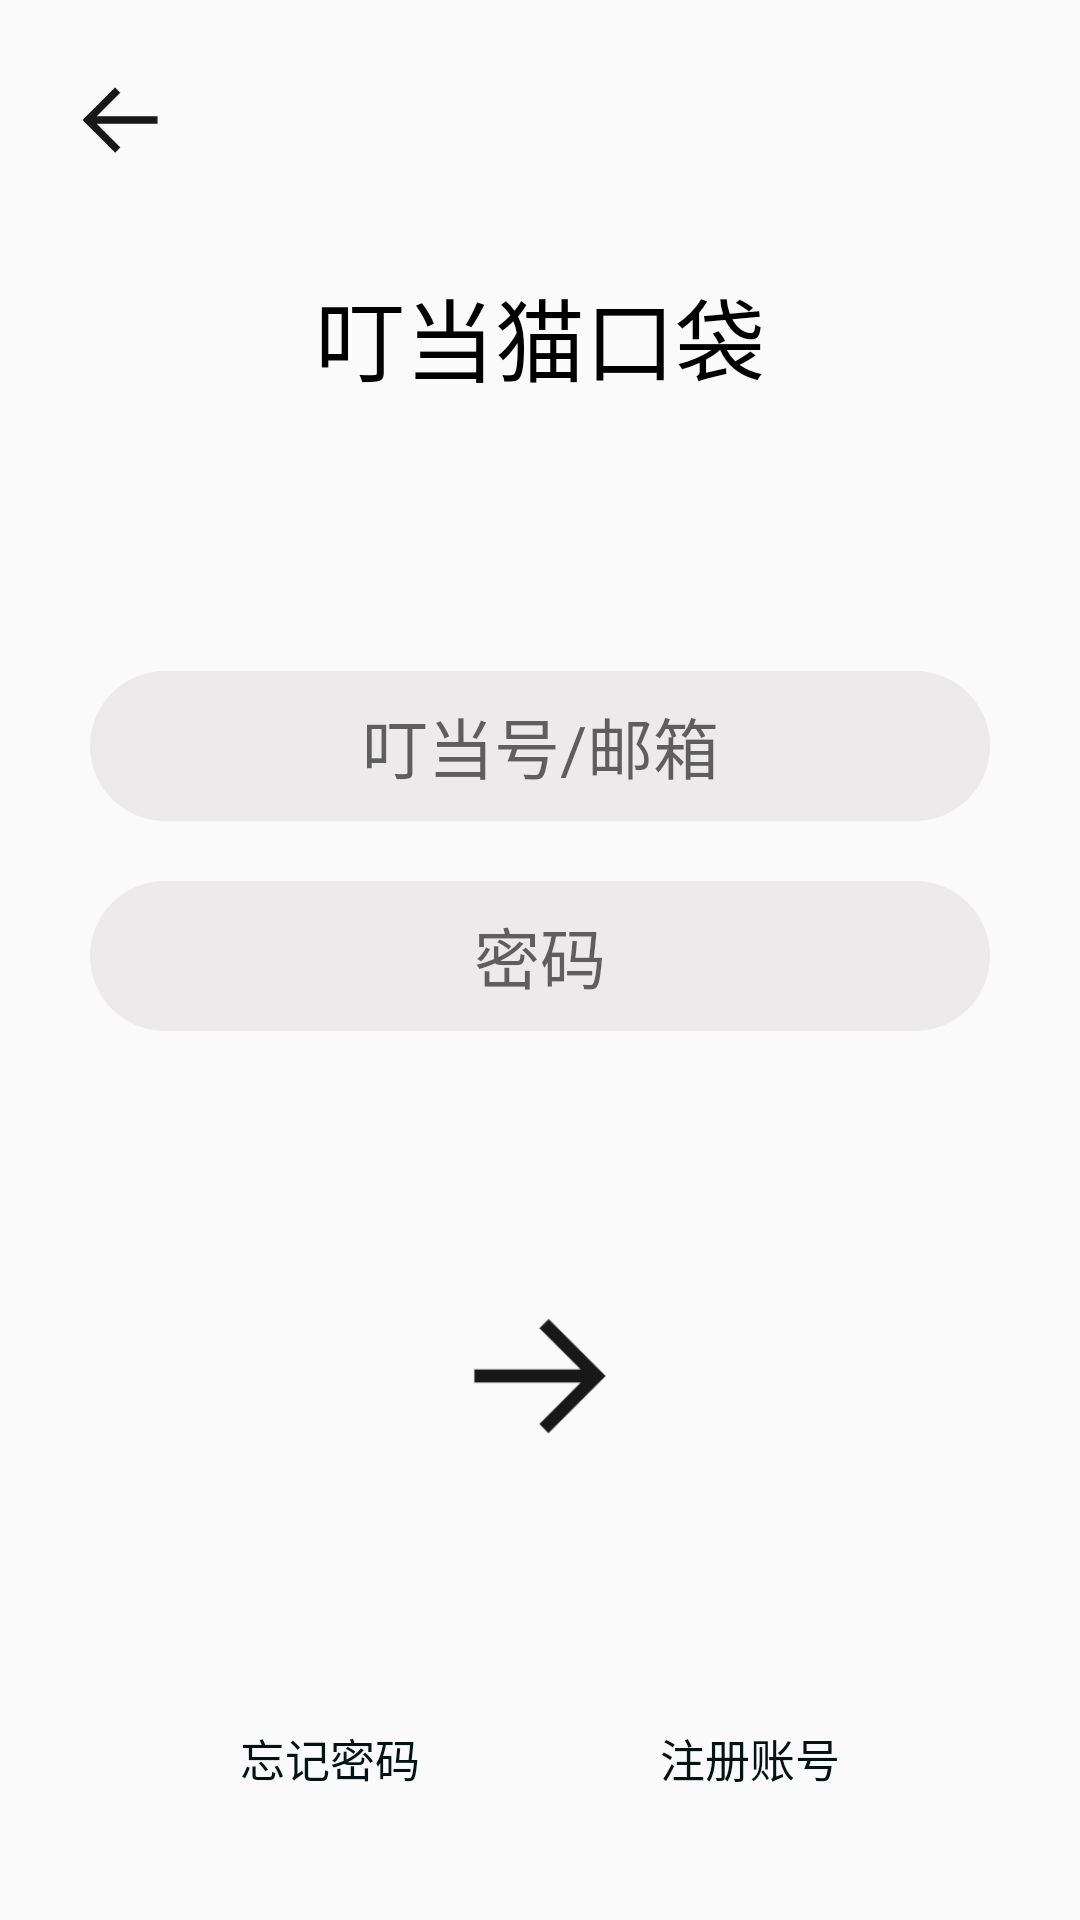

Screen size 1080x1920. Icon name, then its box in pixels as {"left": x1, "top": y1, "right": x2, "bottom": y2}:
back: {"left": 82, "top": 87, "right": 158, "bottom": 153}
go to link: {"left": 474, "top": 1319, "right": 606, "bottom": 1434}
